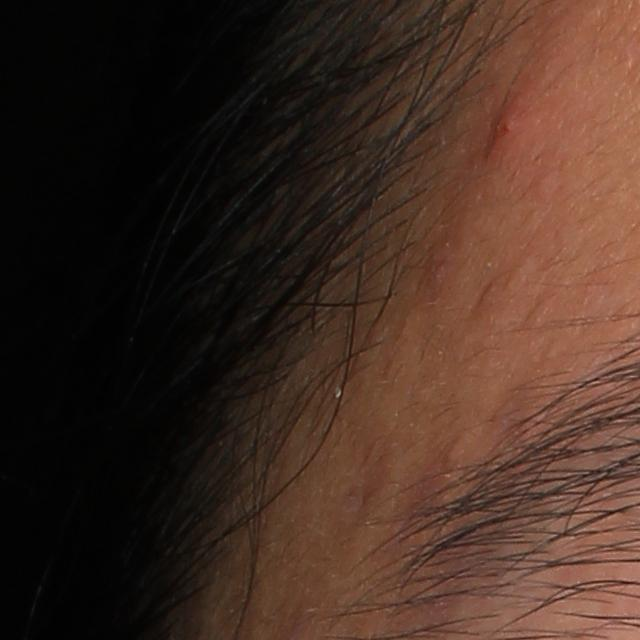papule: (478, 74, 527, 162)
